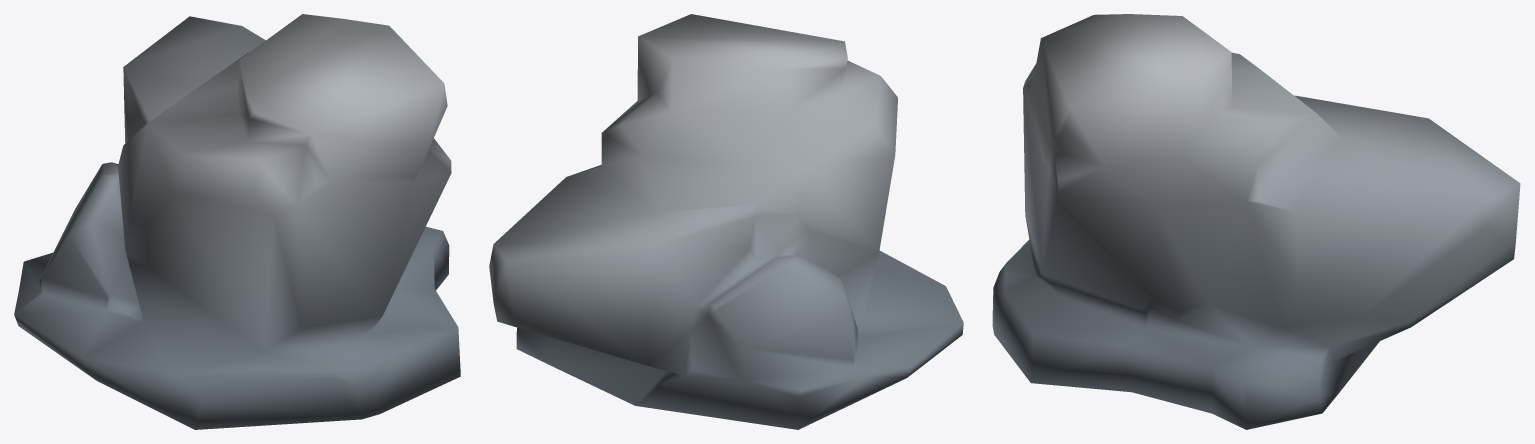
File: Stone_4.FBX
3 views of the same model, side by side, from view 1: azimuth 30°, elevation 25°; view 2: azimuth 150°, elevation 25°; view 3: azimuth 270°, elevation 25° (orthographic). The views are drawn at different scales.
Visible parts, largest first — view 1: Stone_4; view 2: Stone_4; view 3: Stone_4.
Boxes of the visible parts, box(x1,y1,x2,y2) form: Stone_4: box(14, 14, 460, 429); Stone_4: box(489, 14, 963, 429); Stone_4: box(992, 14, 1520, 429).
Bounding box in the file's own units: 109 × 73.94 × 117.
1 material, 1 textured.
